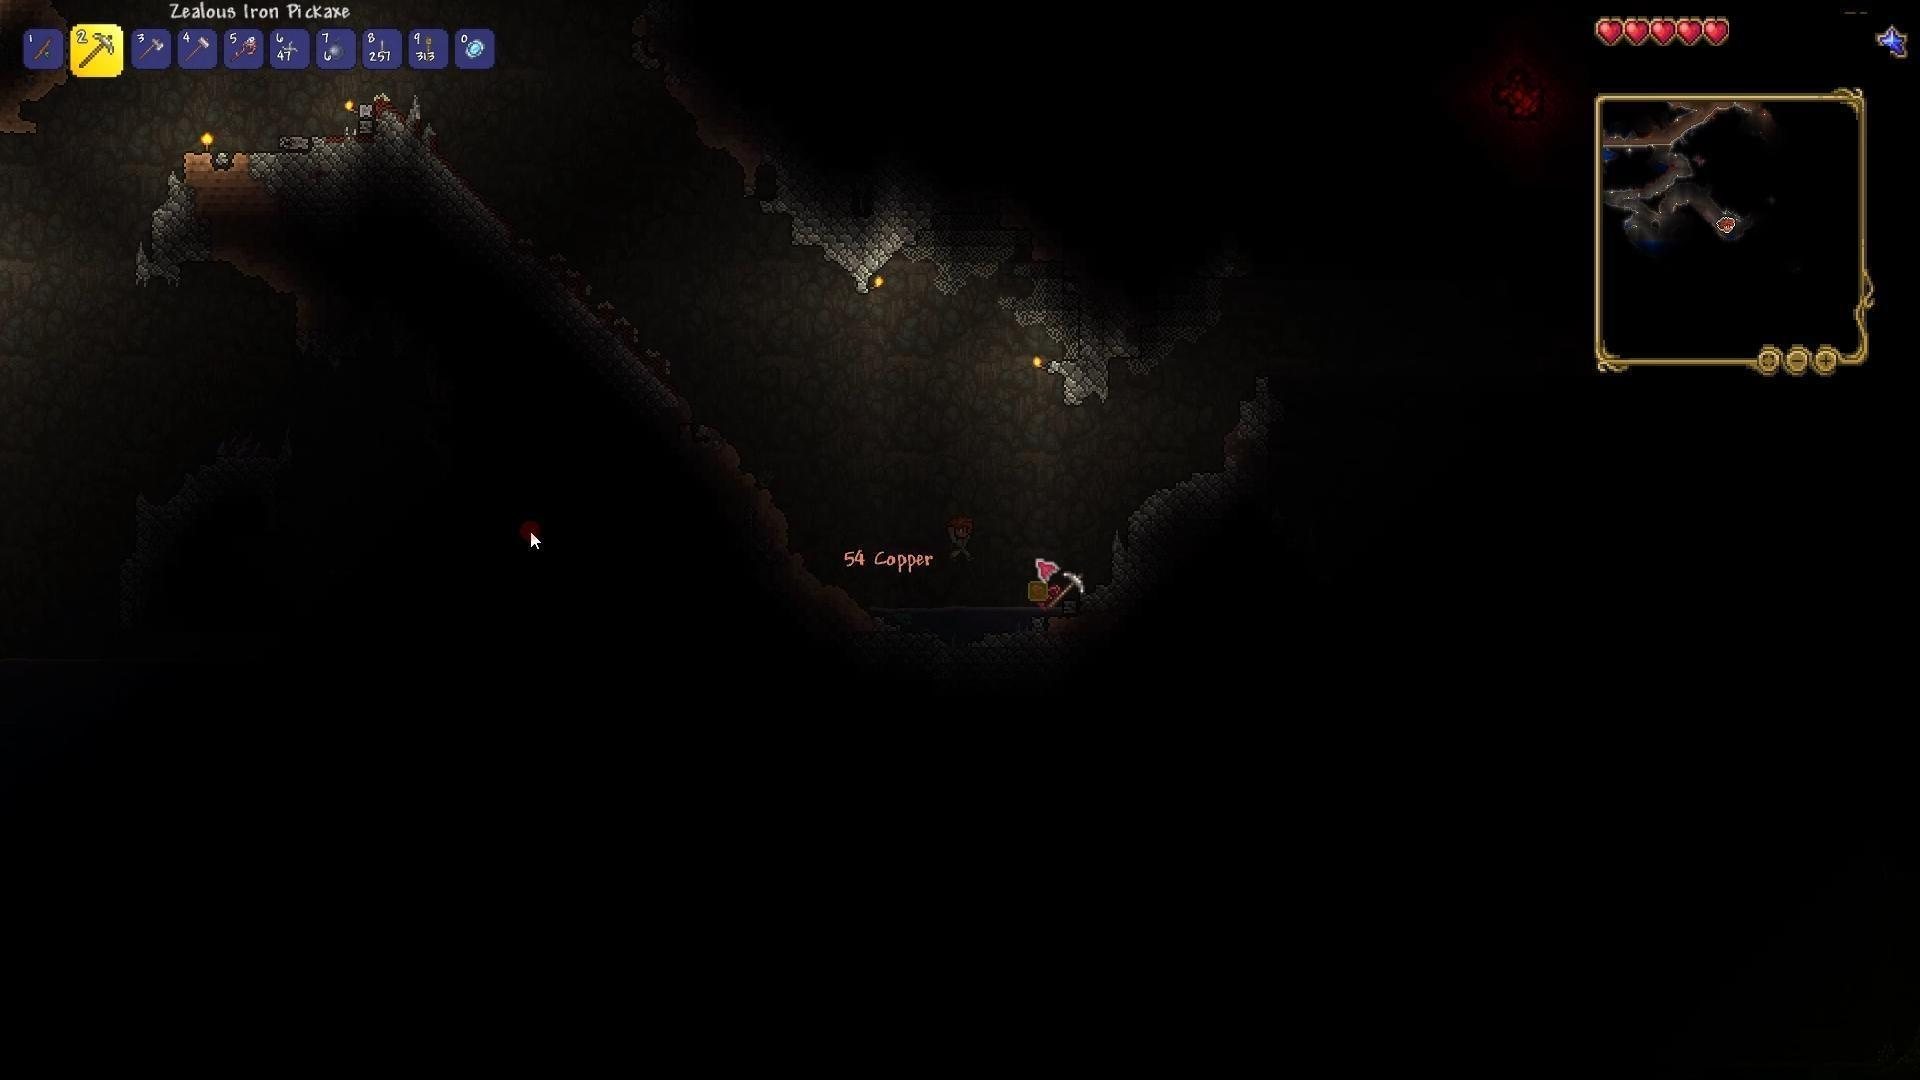heart: (1702, 17, 1733, 51), (1593, 16, 1626, 46), (1676, 15, 1704, 50), (1650, 16, 1676, 49), (1625, 15, 1651, 44)
liquid: (866, 592, 1035, 620)
stone: (277, 109, 439, 210), (781, 174, 910, 286), (1106, 463, 1232, 571), (128, 160, 219, 285), (1062, 323, 1126, 425)
